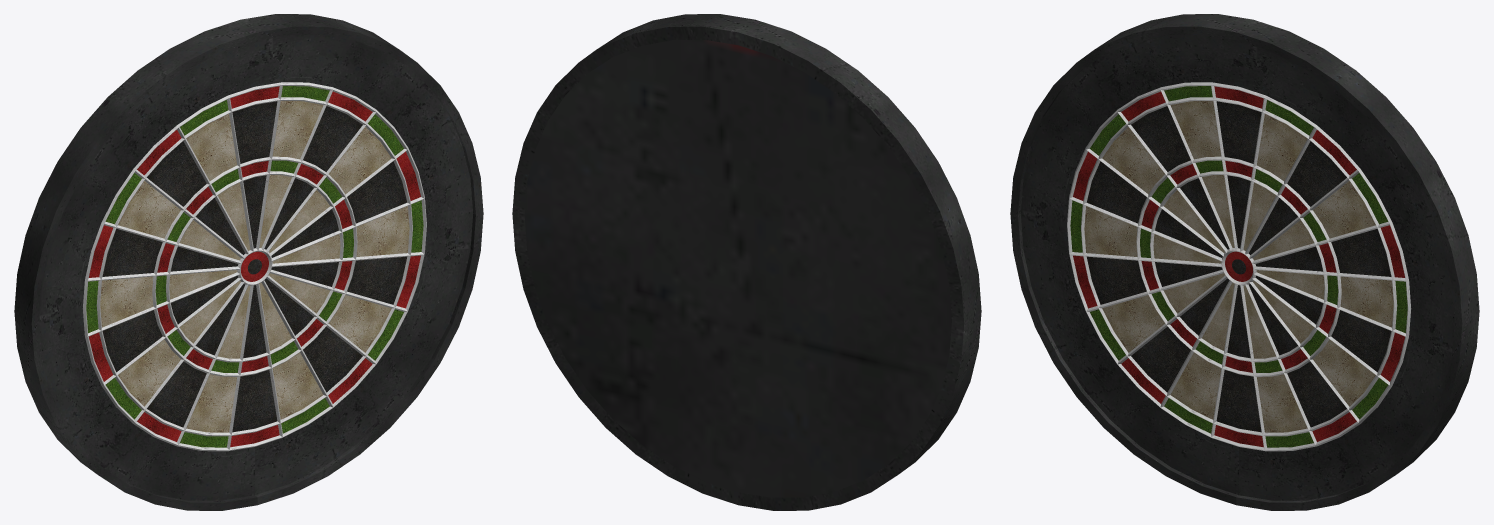
Rendered from 031_darts.fbx.
The picture shows the model from 3 angles, left to right: view 1: azimuth 30°, elevation 25°; view 2: azimuth 150°, elevation 25°; view 3: azimuth 330°, elevation 25°; orthographic projection.
Visible parts, largest first — view 1: LOD_1_Group_0_Sub_1__sm32_031_Darts01A_B_Mat; view 2: LOD_1_Group_0_Sub_1__sm32_031_Darts01A_B_Mat; view 3: LOD_1_Group_0_Sub_1__sm32_031_Darts01A_B_Mat.
Boxes of the visible parts, x1,y1,x2,y2 form: LOD_1_Group_0_Sub_1__sm32_031_Darts01A_B_Mat: [14, 14, 483, 510]; LOD_1_Group_0_Sub_1__sm32_031_Darts01A_B_Mat: [512, 14, 981, 510]; LOD_1_Group_0_Sub_1__sm32_031_Darts01A_B_Mat: [1010, 14, 1479, 510].
Bounding box in the file's own units: 0.5698 × 0.5698 × 0.0378.
